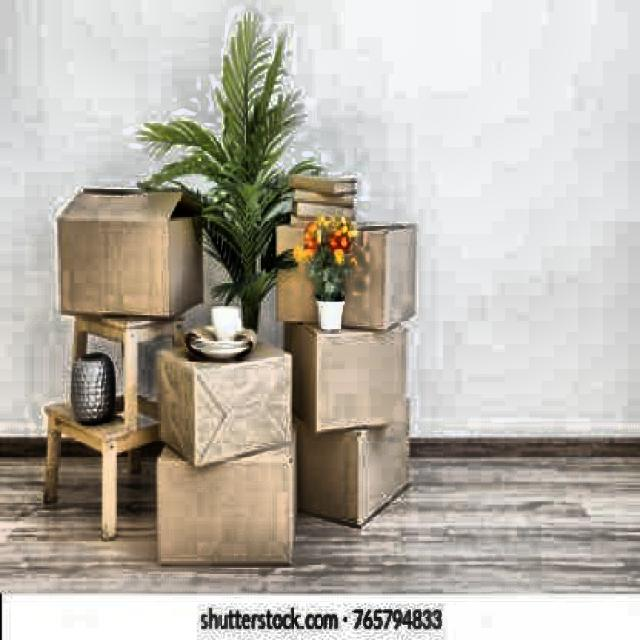Cardbox: (123, 414, 322, 578), (55, 162, 195, 317), (157, 334, 290, 467), (271, 227, 428, 331), (302, 393, 424, 522), (294, 310, 421, 429)
